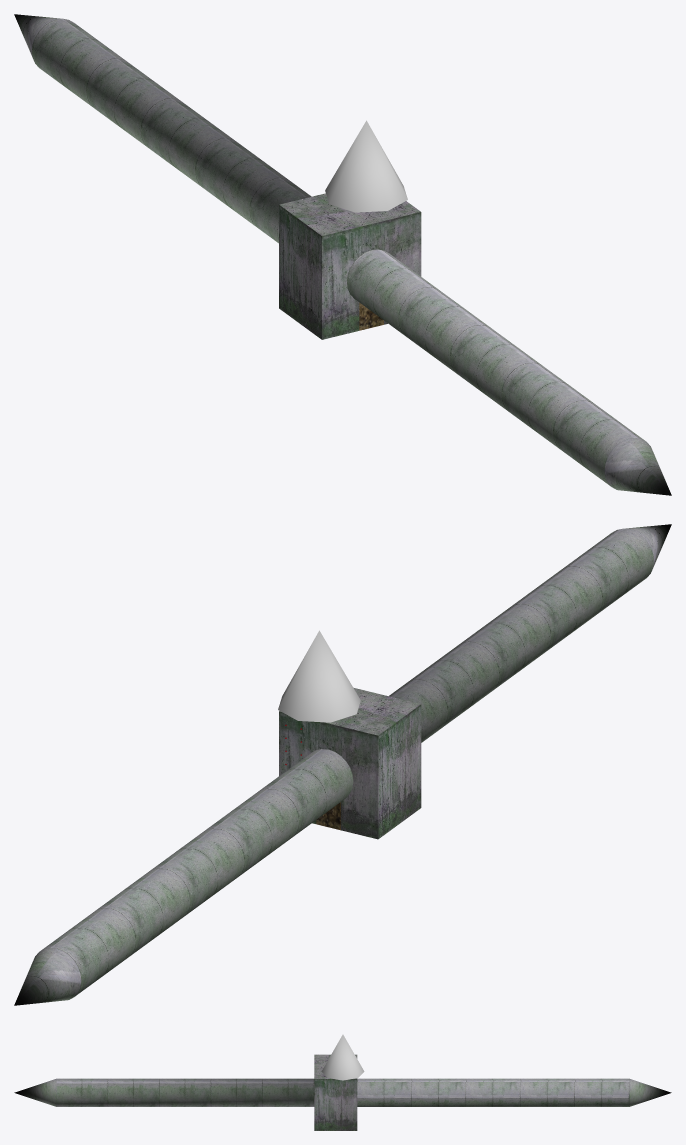
Rendered from ENVI_SewerageTunnel.obj.
The picture shows the model from 3 angles, top to bottom: view 1: azimuth 30°, elevation 25°; view 2: azimuth 150°, elevation 25°; view 3: azimuth 270°, elevation 25°; orthographic projection. The views are drawn at different scales.
Visible parts, largest first — view 1: ENVI_SewerageTunnel; view 2: ENVI_SewerageTunnel; view 3: ENVI_SewerageTunnel.
Part boxes in pixels (x1,y1,x2,y2): ENVI_SewerageTunnel: (14,14,671,495); ENVI_SewerageTunnel: (14,524,671,1005); ENVI_SewerageTunnel: (14,1034,671,1130).
Bounding box in the file's own units: 4.45 × 6.97 × 45.96.
7 materials, 5 textured.
